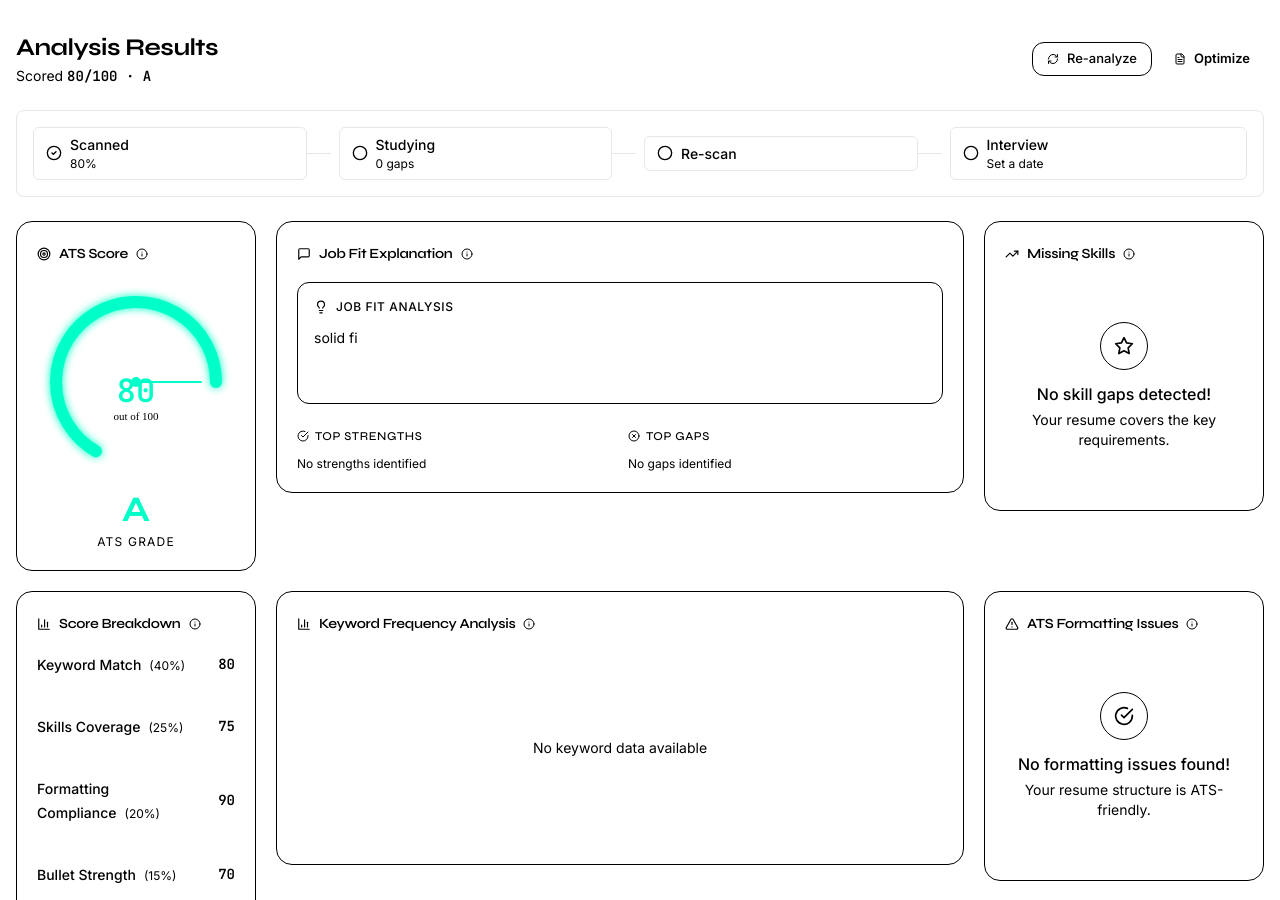
Results page — Optimize paywall gate (B-032) › AC-1: free user click opens PaywallModal with rewrite_limit copy, no navigation
Click the button "Optimize". click: {"x": 1212, "y": 59}
box: [1160,43,1264,75]
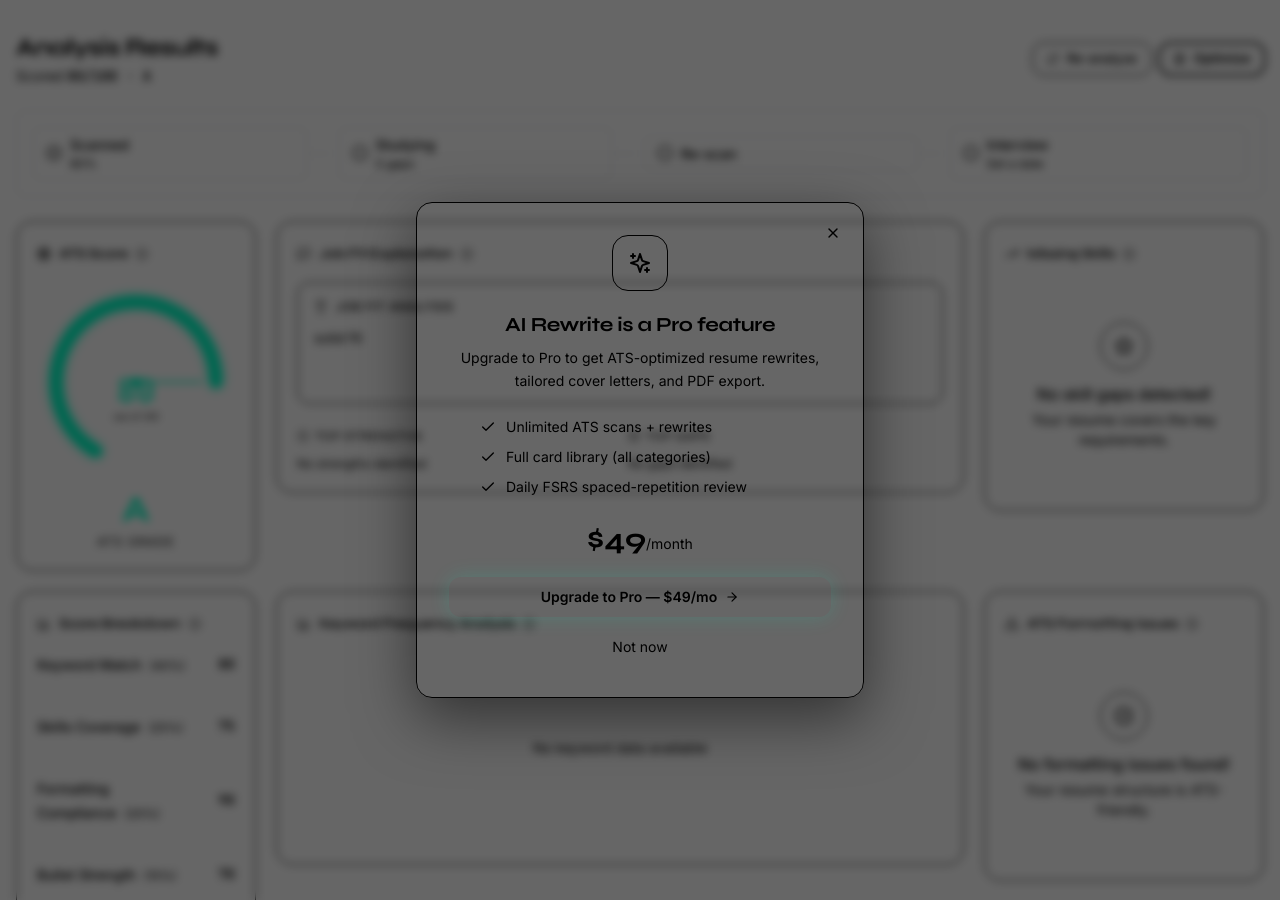
Check: the heading "AI Rewrite is a Pro feature" is shown, box [505,312,775,337]
